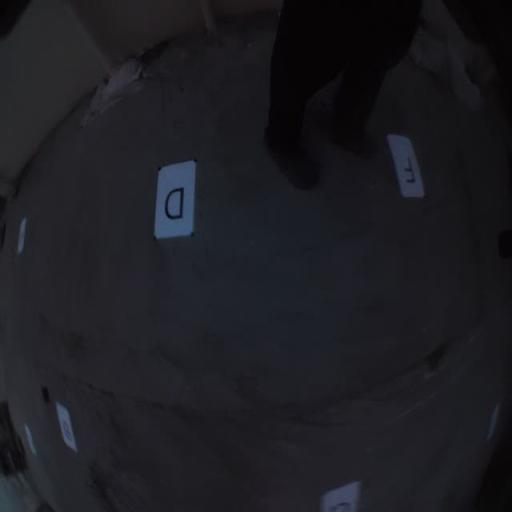A: (16, 218, 26, 255)
B: (54, 402, 78, 453)
C: (24, 424, 38, 458)
D: (154, 160, 197, 239)
E: (320, 481, 362, 512)
F: (386, 134, 425, 198)
